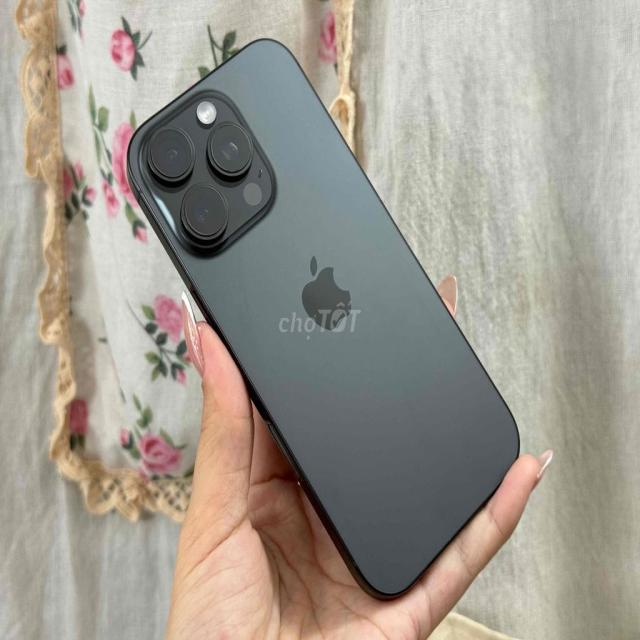gen_16: (121, 31, 532, 612)
